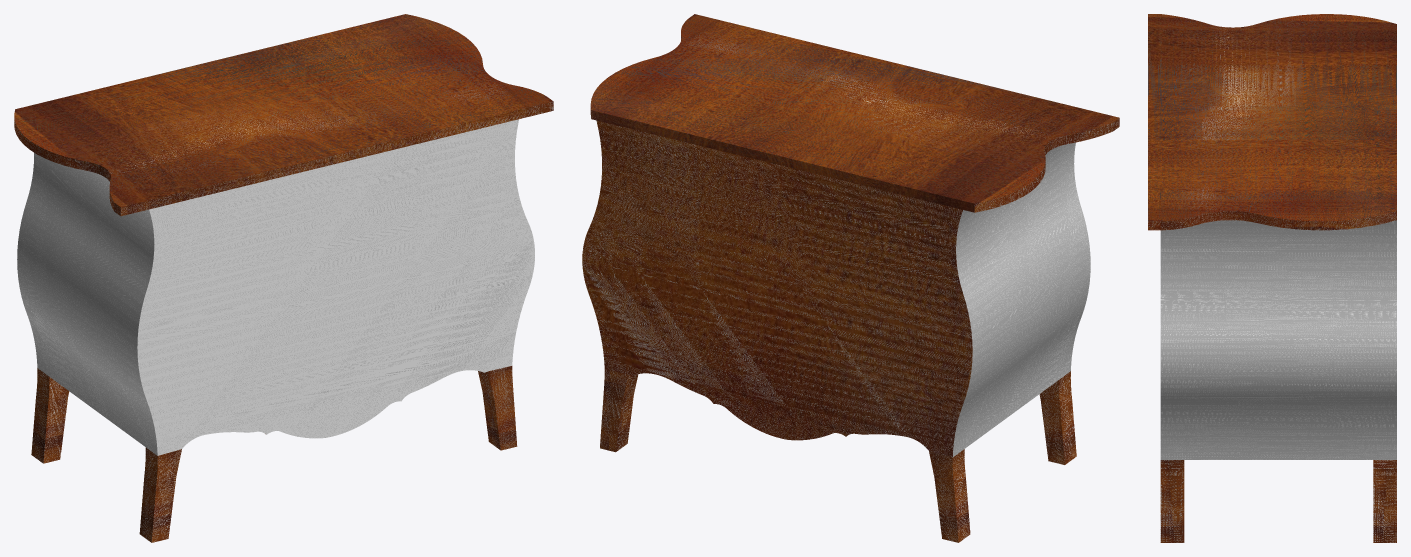
3 renders of one model, left to right at view 1: azimuth 30°, elevation 25°; view 2: azimuth 150°, elevation 25°; view 3: azimuth 270°, elevation 25°, orthographic.
Parts seen in each view (by area): view 1: mesh9_mesh9-geometry, mesh1_mesh1-geometry, mesh2_mesh2-geometry, mesh5_mesh5-geometry, mesh7_mesh7-geometry; view 2: mesh9_mesh9-geometry, mesh1_mesh1-geometry, mesh5_mesh5-geometry, mesh2_mesh2-geometry, mesh4_mesh4-geometry; view 3: mesh9_mesh9-geometry, mesh1_mesh1-geometry, mesh7_mesh7-geometry, mesh4_mesh4-geometry.
Part boxes in pixels (bbox=[...]): mesh9_mesh9-geometry: bbox=[17, 119, 534, 455]; mesh1_mesh1-geometry: bbox=[14, 14, 553, 216]; mesh2_mesh2-geometry: bbox=[139, 447, 181, 542]; mesh5_mesh5-geometry: bbox=[31, 368, 69, 463]; mesh7_mesh7-geometry: bbox=[478, 366, 517, 450]; mesh9_mesh9-geometry: bbox=[582, 120, 1090, 457]; mesh1_mesh1-geometry: bbox=[590, 14, 1119, 212]; mesh5_mesh5-geometry: bbox=[929, 449, 970, 542]; mesh2_mesh2-geometry: bbox=[1039, 371, 1076, 464]; mesh4_mesh4-geometry: bbox=[600, 369, 638, 452]; mesh9_mesh9-geometry: bbox=[1160, 220, 1396, 459]; mesh1_mesh1-geometry: bbox=[1148, 14, 1396, 230]; mesh7_mesh7-geometry: bbox=[1160, 460, 1184, 542]; mesh4_mesh4-geometry: bbox=[1373, 460, 1396, 542].
Bounding box in the file's own units: 0.7348 × 0.5669 × 0.3725.
